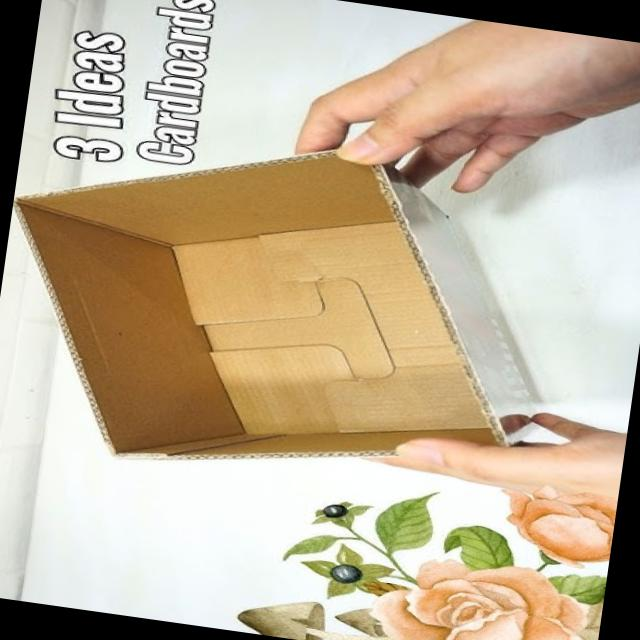cardboard_box: (17, 116, 598, 471)
